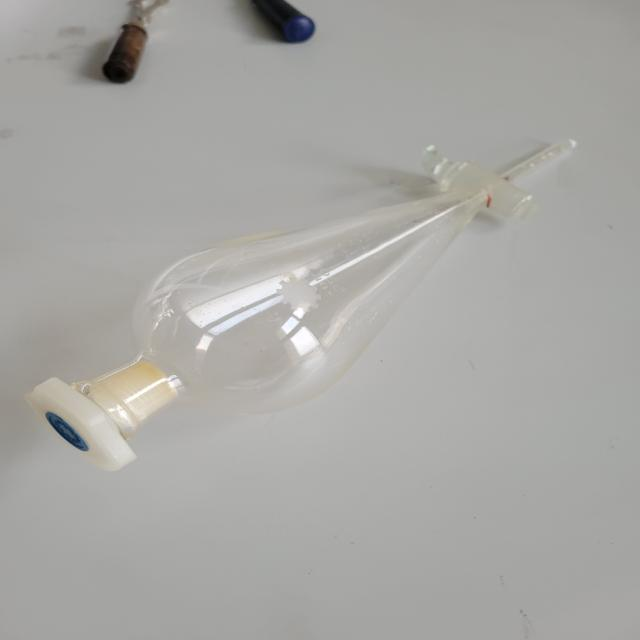Separating_Funnel: (9, 105, 592, 502)
